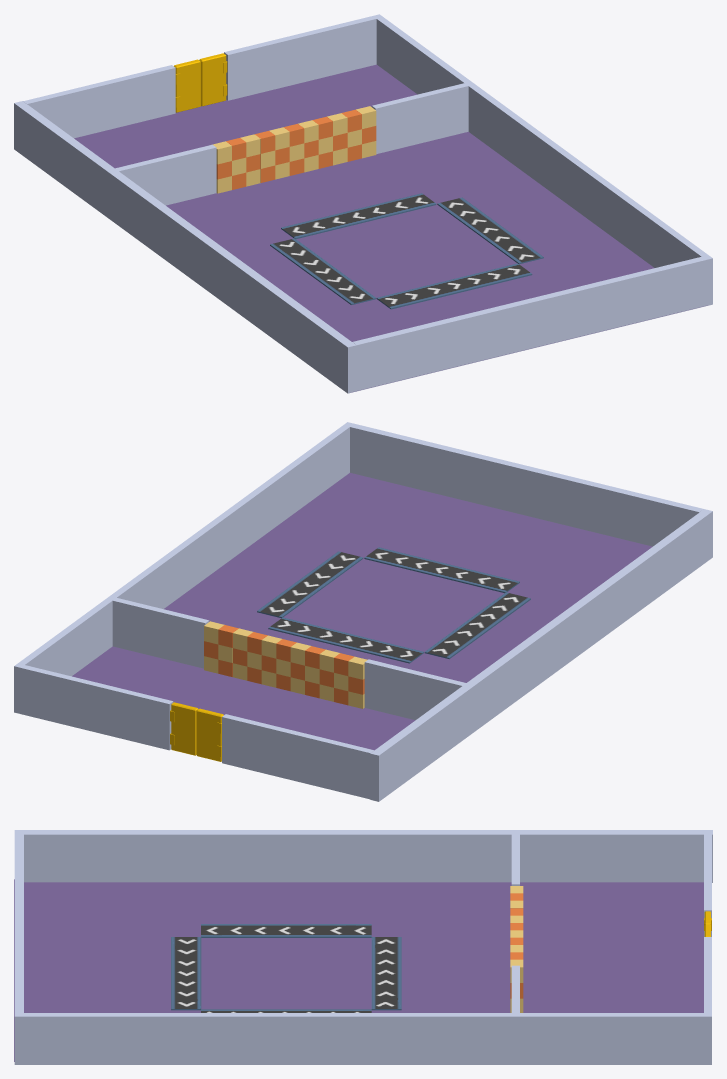
Rendered from maps45.fbx.
The picture shows the model from 3 angles, top to bottom: view 1: azimuth 30°, elevation 25°; view 2: azimuth 150°, elevation 25°; view 3: azimuth 270°, elevation 25°; orthographic projection. The views are drawn at different scales.
Parts seen in each view (by area): view 1: wall_01_08_geo, wall_01_07_geo, wall_01_05_geo, wall_01_06_geo1, wall_01_09_geo7, wall_01_09_geo, wall_01_09_geo6, wall_01_09_geo8, conveyorBelt_geo, conveyorBelt_geo1, conveyorBelt_geo2, conveyorBelt_geo3 (+2 smaller); view 2: wall_01_08_geo, wall_01_07_geo, wall_01_05_geo, wall_01_06_geo1, wall_01_09_geo7, wall_01_09_geo, wall_01_09_geo6, wall_01_09_geo8, conveyorBelt_geo, conveyorBelt_geo1, conveyorBelt_geo2, conveyorBelt_geo3 (+2 smaller); view 3: wall_01_08_geo, wall_01_06_geo1, wall_01_07_geo, conveyorBelt_geo2, conveyorBelt_geo, conveyorBelt_geo1, wall_01_05_geo, conveyorBelt_geo3, wall_01_09_geo, wall_01_09_geo7, wall_01_09_geo8, wall_01_09_geo6.
Boxes of the visible parts, x1=… form: wall_01_08_geo: x1=74, y1=64, x2=707, y2=392; wall_01_07_geo: x1=14, y1=101, x2=356, y2=393; wall_01_05_geo: x1=352, y1=257, x2=705, y2=391; wall_01_06_geo1: x1=373, y1=14, x2=712, y2=305; wall_01_09_geo7: x1=224, y1=16, x2=376, y2=100; wall_01_09_geo: x1=23, y1=65, x2=175, y2=138; wall_01_09_geo6: x1=372, y1=83, x2=468, y2=153; wall_01_09_geo8: x1=115, y1=144, x2=216, y2=205; conveyorBelt_geo: x1=281, y1=193, x2=436, y2=238; conveyorBelt_geo1: x1=376, y1=263, x2=532, y2=309; conveyorBelt_geo2: x1=270, y1=238, x2=376, y2=304; conveyorBelt_geo3: x1=437, y1=197, x2=543, y2=264; wall_01_08_geo: x1=72, y1=473, x2=652, y2=750; wall_01_07_geo: x1=370, y1=509, x2=712, y2=801; wall_01_05_geo: x1=350, y1=423, x2=703, y2=546; wall_01_06_geo1: x1=14, y1=422, x2=353, y2=713; wall_01_09_geo7: x1=20, y1=665, x2=173, y2=750; wall_01_09_geo: x1=222, y1=714, x2=373, y2=799; wall_01_09_geo6: x1=112, y1=598, x2=209, y2=668; wall_01_09_geo8: x1=364, y1=659, x2=465, y2=720; conveyorBelt_geo: x1=268, y1=617, x2=423, y2=663; conveyorBelt_geo1: x1=364, y1=547, x2=519, y2=593; conveyorBelt_geo2: x1=424, y1=592, x2=530, y2=659; conveyorBelt_geo3: x1=257, y1=551, x2=363, y2=618; wall_01_08_geo: x1=14, y1=879, x2=703, y2=1061; wall_01_06_geo1: x1=14, y1=1013, x2=711, y2=1064; wall_01_07_geo: x1=14, y1=830, x2=712, y2=882; conveyorBelt_geo2: x1=201, y1=924, x2=371, y2=937; conveyorBelt_geo: x1=371, y1=937, x2=401, y2=1010; conveyorBelt_geo1: x1=171, y1=937, x2=201, y2=1010; wall_01_05_geo: x1=14, y1=834, x2=23, y2=1012; conveyorBelt_geo3: x1=201, y1=1009, x2=371, y2=1012; wall_01_09_geo: x1=704, y1=834, x2=711, y2=936; wall_01_09_geo7: x1=704, y1=937, x2=711, y2=1012; wall_01_09_geo8: x1=511, y1=834, x2=519, y2=885; wall_01_09_geo6: x1=511, y1=965, x2=519, y2=1012.
Size of the model in its own units: 73.34 by 8.96 by 116.
4 materials, 4 textured.
